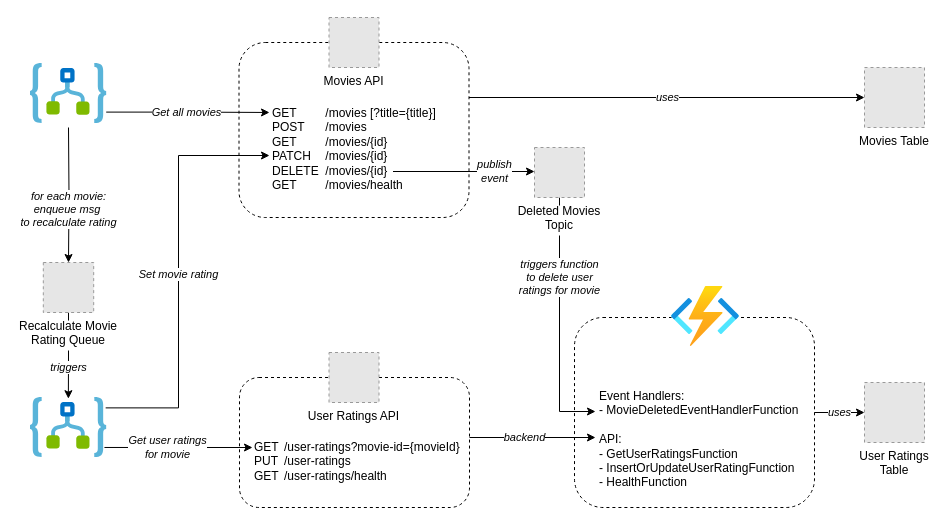
This 948x525 diagram has some shape labels left out. Grey dashed boxes stand in for pictures. Each missing label, with the box of its shape:
Recalculate Rating for All Movies Workflow: (30, 63, 106, 123)
Recalculate Rating for Single Movie Workflow: (30, 397, 106, 457)
User Ratings Function App: (671, 286, 739, 346)
